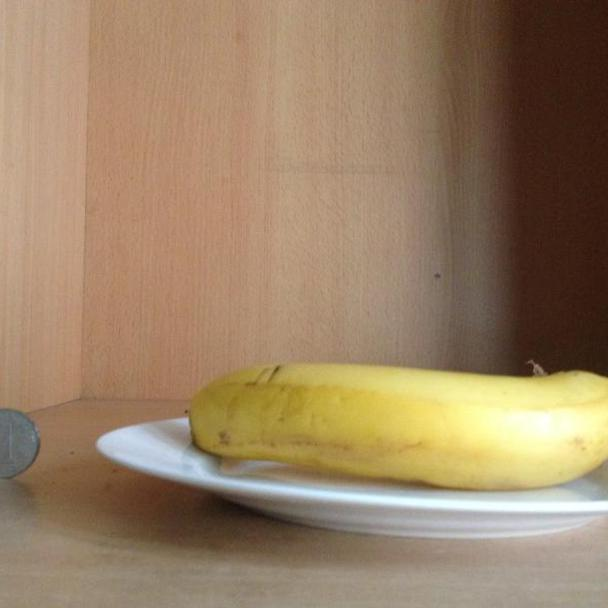banana: (184, 361, 608, 487)
